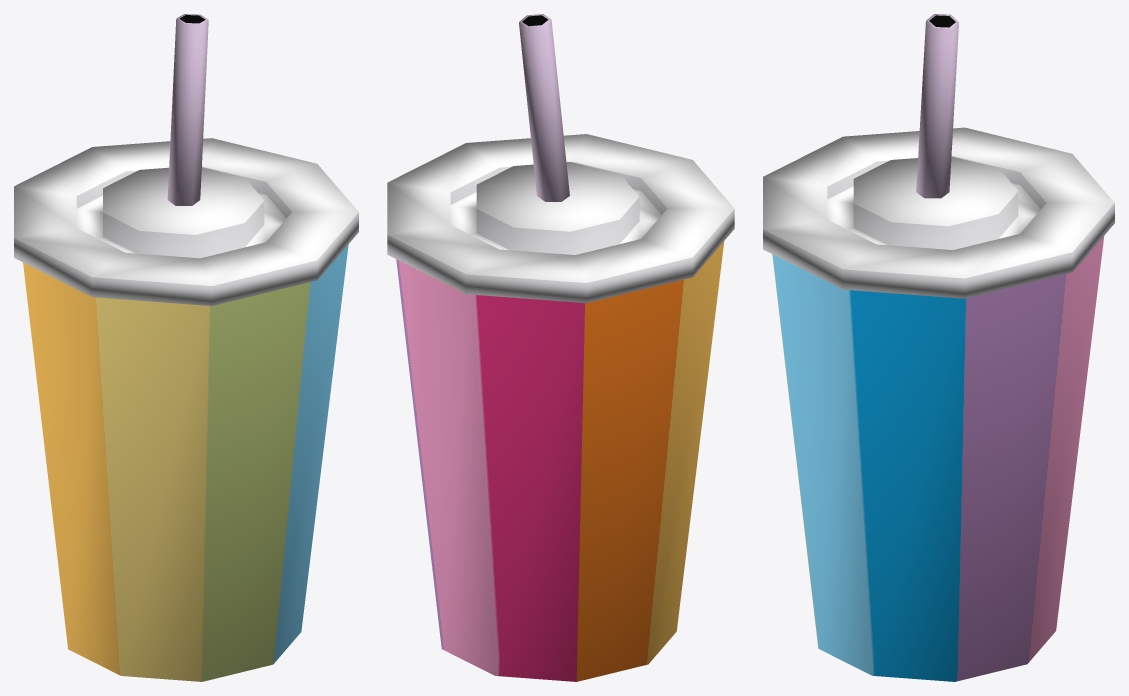
The model's file is Soda.glb.
3 views of the same model, side by side, from view 1: azimuth 30°, elevation 25°; view 2: azimuth 150°, elevation 25°; view 3: azimuth 270°, elevation 25° (orthographic).
Visible parts, largest first — view 1: soda; view 2: soda; view 3: soda.
Boxes of the visible parts, x1,y1,x2,y2 form: soda: [14, 14, 358, 681]; soda: [387, 14, 734, 681]; soda: [763, 14, 1114, 681].
Size of the model in its own units: 0.6699 by 1.28 by 0.6597.
Materials: 1 (1 with a texture image).
